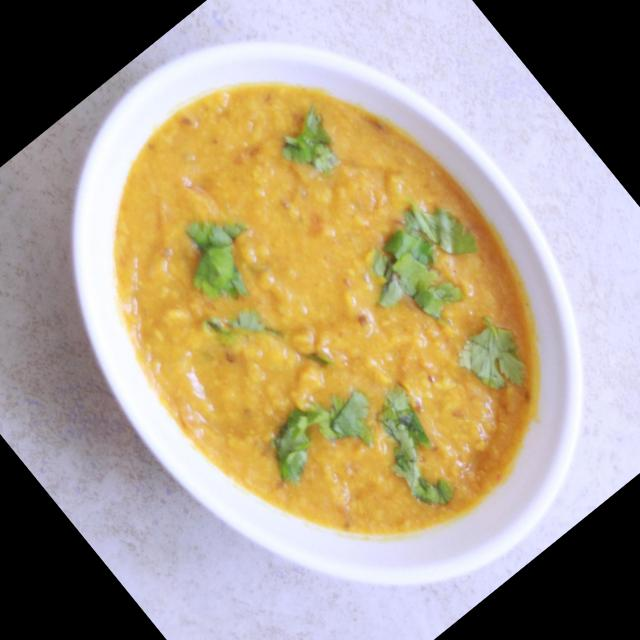dal: (17, 0, 622, 620)
